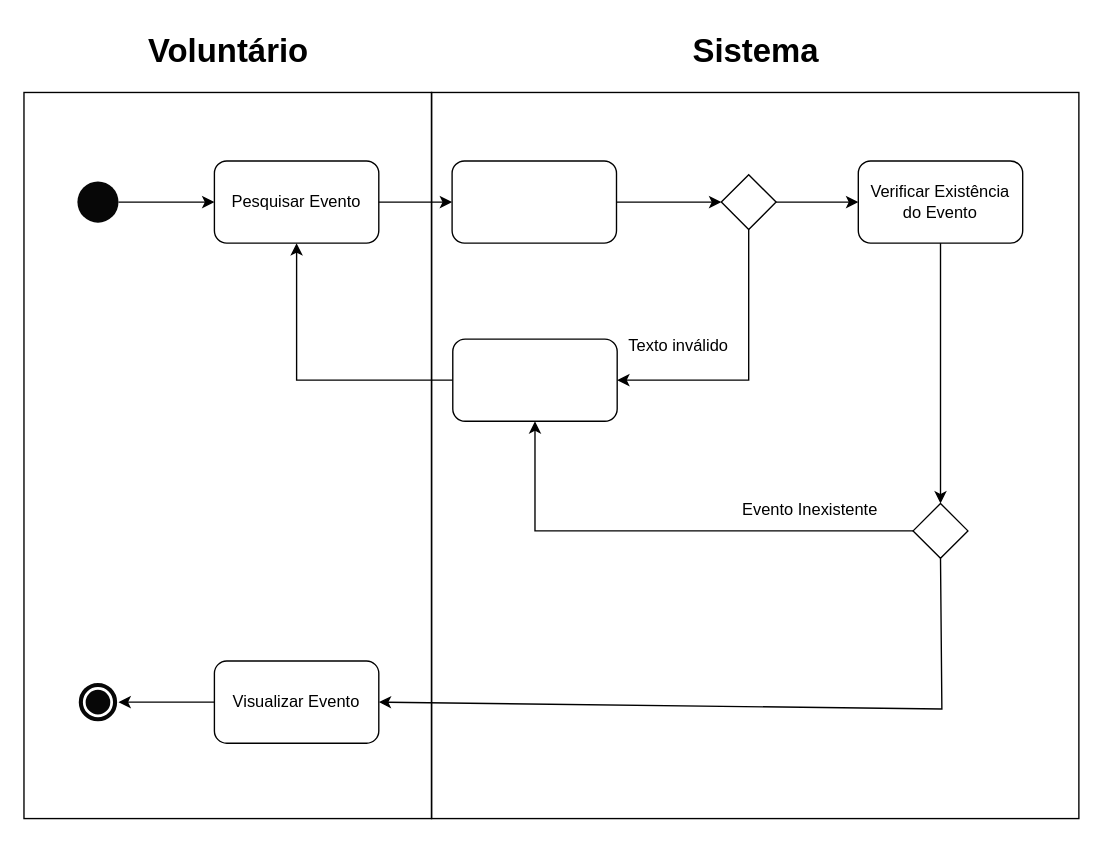
Some shapes in this 1103 by 843 pixel diagram are drawn without their labels. Here are the shapes that lost their labels. From the top down, the centre of each, then its label:
the point at 533,201: Verificar Validade do Texto
the point at 534,379: Mostrar Erro
